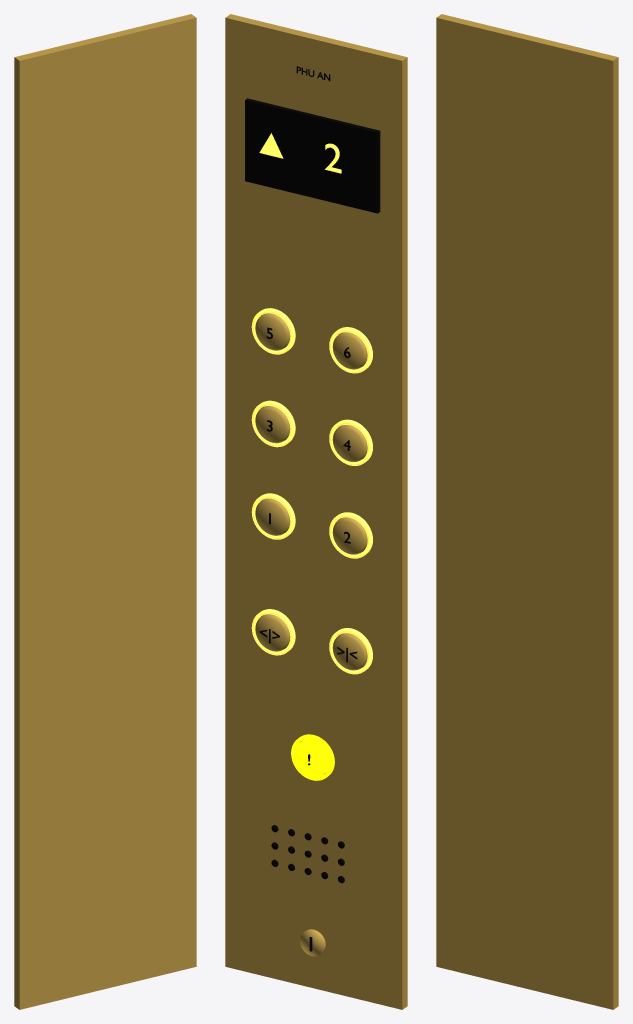
The model's file is cop_brass.glb.
The picture shows the model from 3 angles, left to right: view 1: azimuth 30°, elevation 25°; view 2: azimuth 150°, elevation 25°; view 3: azimuth 330°, elevation 25°; orthographic projection.
Parts seen in each view (by area): view 1: COP_Plate; view 2: COP_Plate, COP_Display, COP_Btn_Alarm_Cap, COP_Btn_1_Cap, COP_Btn_5_Cap, COP_Btn_4_Cap, COP_Btn_6_Cap, COP_Btn_2_Cap, COP_Btn_3_Cap, COP_Btn_Close_Cap, COP_Btn_Open_Cap, COP_Btn_5_Ring (+9 smaller); view 3: COP_Plate.
Part boxes in pixels (<box>): COP_Plate: <box>14,14,196,1009</box>; COP_Plate: <box>225,14,407,1009</box>; COP_Display: <box>245,98,380,213</box>; COP_Btn_Alarm_Cap: <box>294,739,329,776</box>; COP_Btn_1_Cap: <box>255,498,290,535</box>; COP_Btn_5_Cap: <box>255,313,290,350</box>; COP_Btn_4_Cap: <box>332,425,367,461</box>; COP_Btn_6_Cap: <box>332,332,367,369</box>; COP_Btn_2_Cap: <box>332,517,367,554</box>; COP_Btn_3_Cap: <box>255,406,290,443</box>; COP_Btn_Close_Cap: <box>332,633,367,670</box>; COP_Btn_Open_Cap: <box>255,614,290,651</box>; COP_Btn_5_Ring: <box>251,308,295,354</box>; COP_Plate: <box>436,14,618,1009</box>.
Size of the model in its own units: 0.16 by 0.82 by 0.0159.
